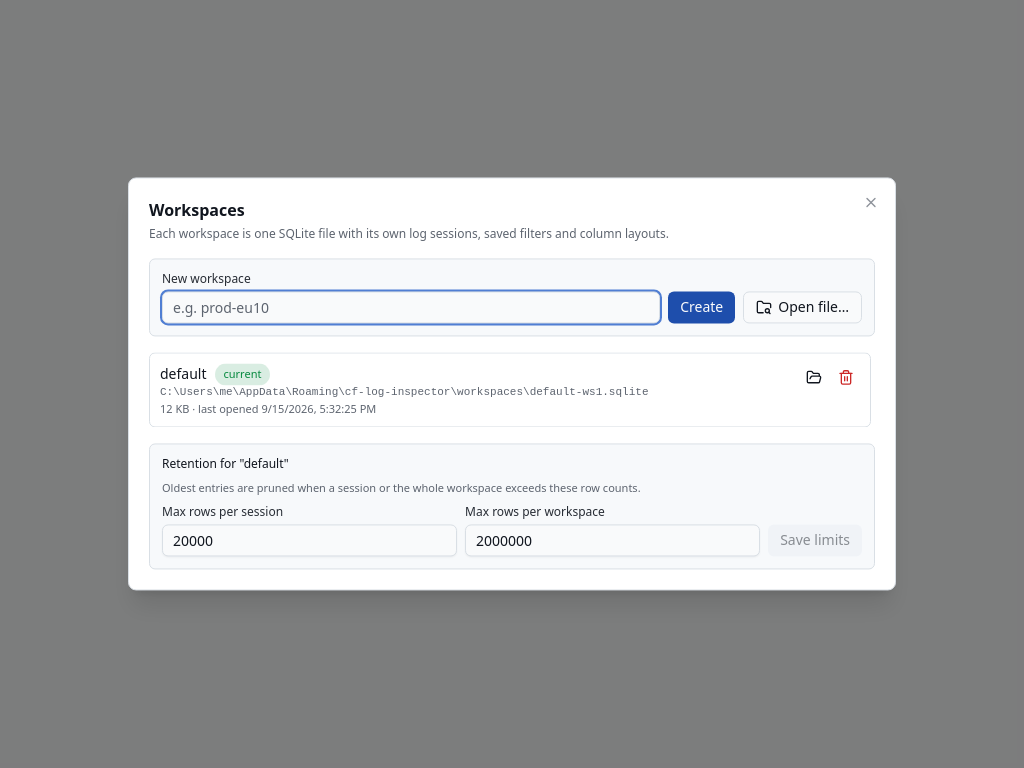
Test case: WorkspaceDialog › shows and saves retention limits of the current workspace
The width and height of the screenshot is (1024, 768).
Expected: the dialog "Workspaces" is shown, [128, 177, 896, 590]
Expected: the number field labelled "Max rows per session" holds "20000", [162, 525, 457, 557]
Clear the number field labelled "Max rows per workspace": point(613, 541) [465, 525, 760, 557]
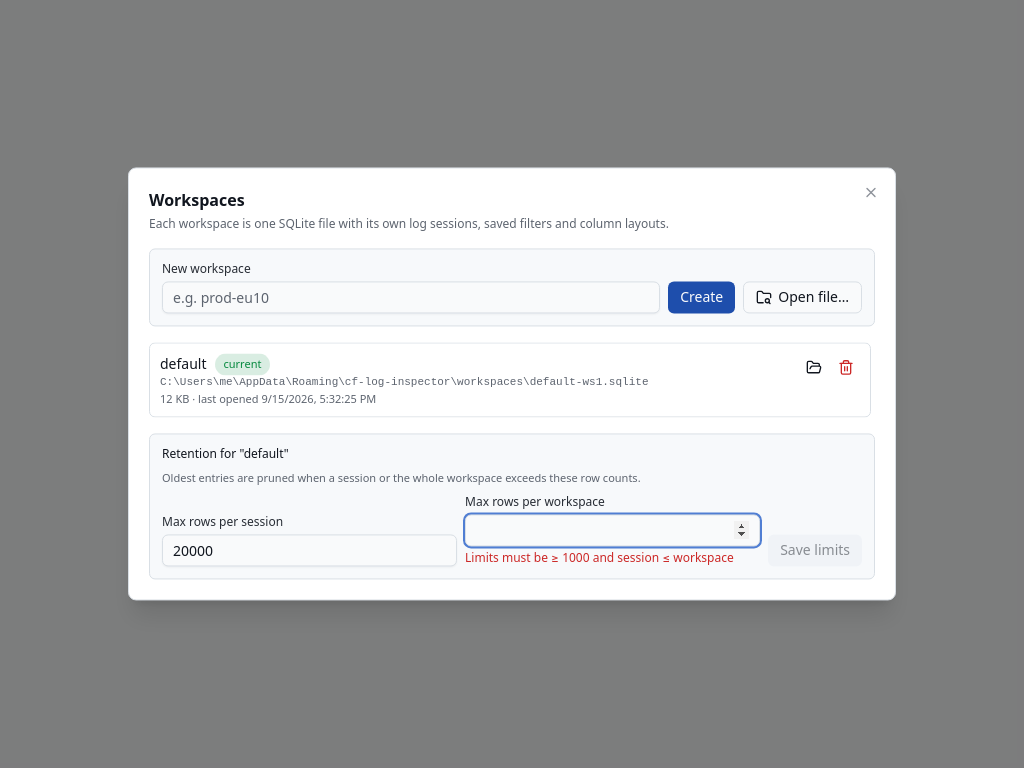
In the number field labelled "Max rows per workspace": point(613, 531) [465, 515, 760, 547], type "500"
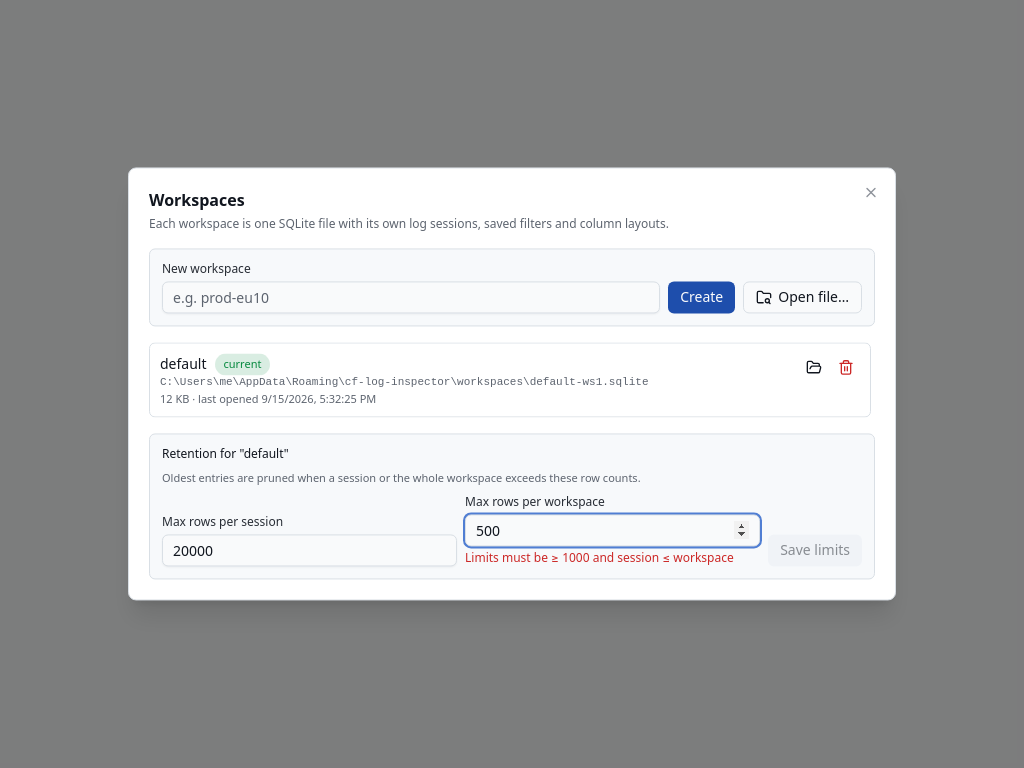
Expected: the button "Save limits" is disabled, [768, 535, 862, 567]
Expected: the text "Limits must be ≥ 1000 and session ≤ workspace" is shown, [465, 551, 760, 567]
Replace the text in the number field labelled "Max rows per workspace" with "100000": point(613, 531) [465, 515, 760, 547]
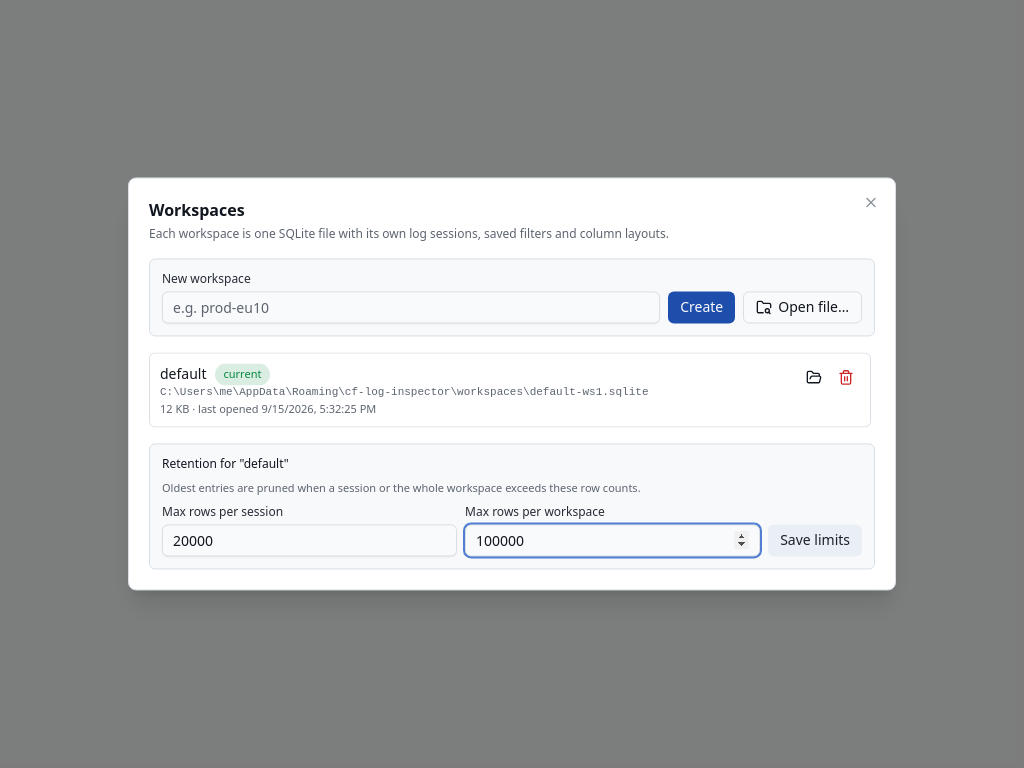
Expected: the button "Save limits" is enabled
Click the button "Save limits": point(815, 541) [768, 525, 862, 557]
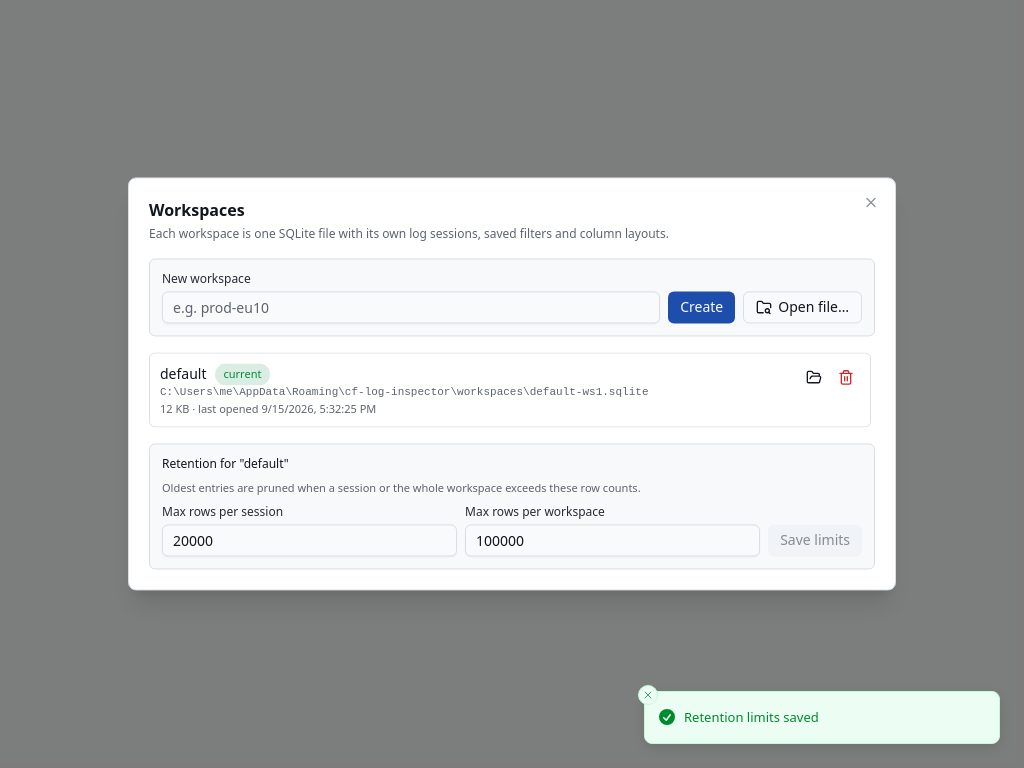
Expected: the button "Save limits" is disabled, [768, 525, 862, 557]
